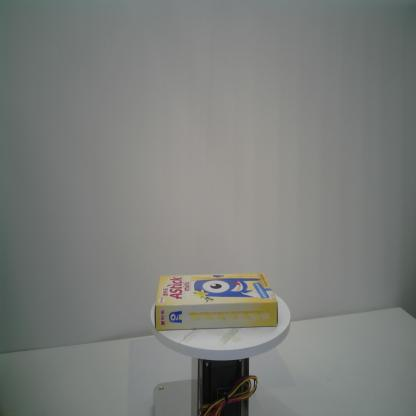Dessert: (153, 271, 280, 333)
